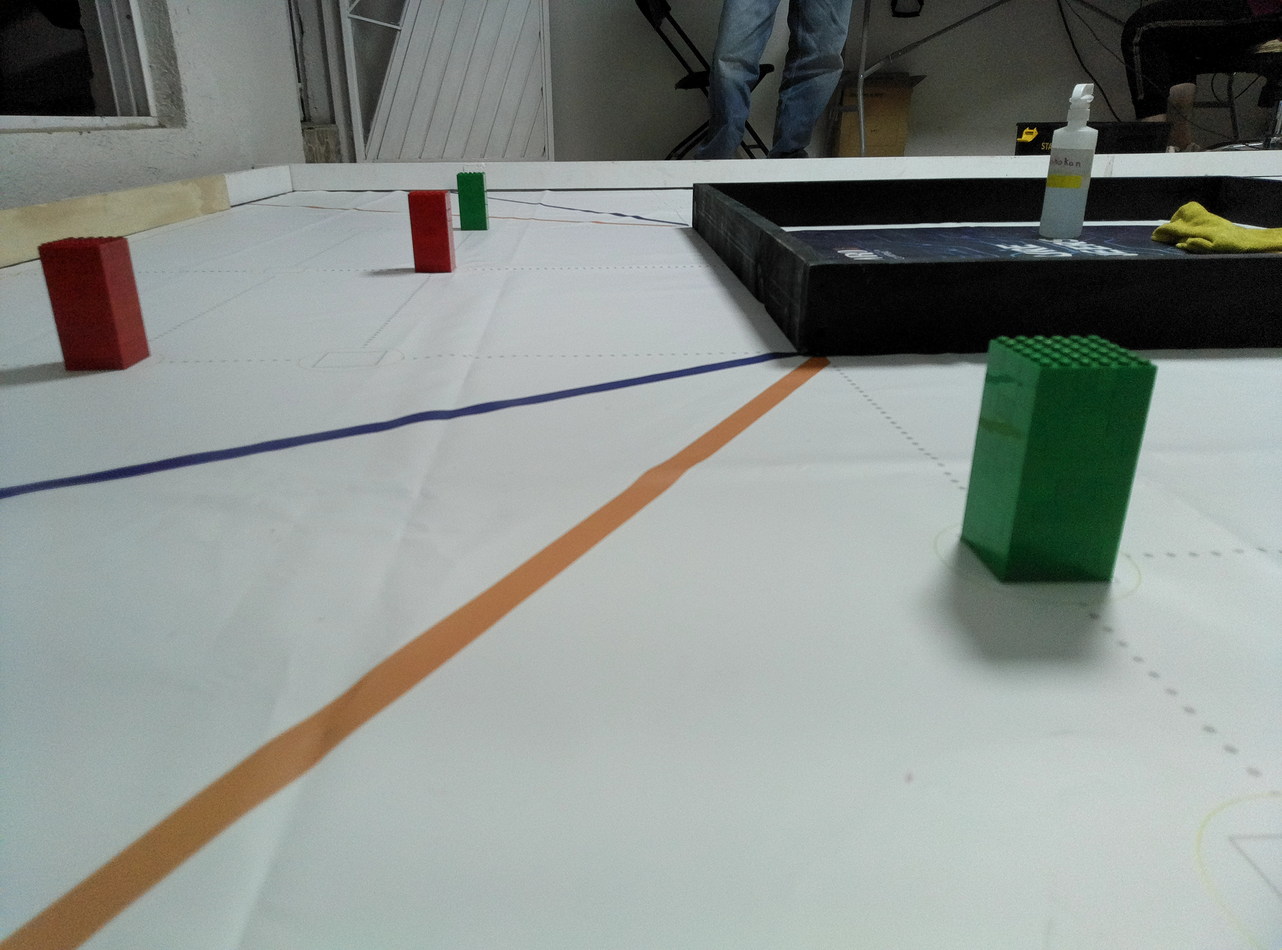greenbox: (955, 329, 1161, 589), (456, 171, 491, 233)
redbox: (35, 233, 153, 373), (408, 188, 458, 273)
